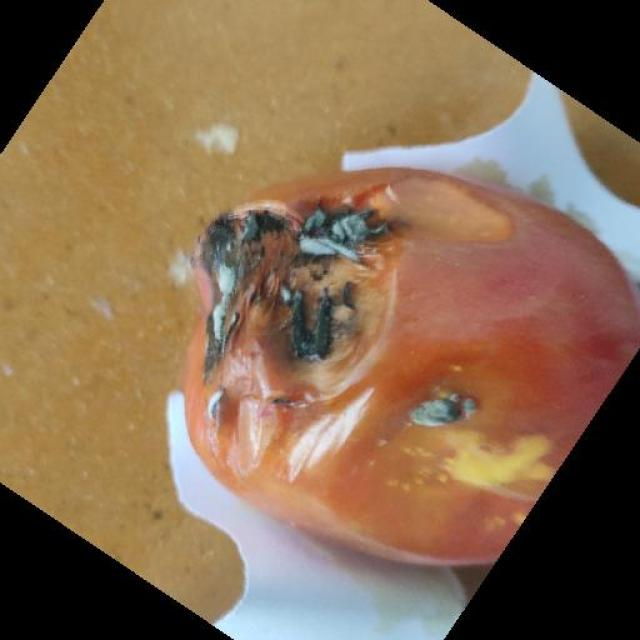Stale_tomato: (209, 195, 626, 562)
